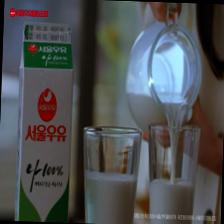milk: (14, 20, 75, 222)
